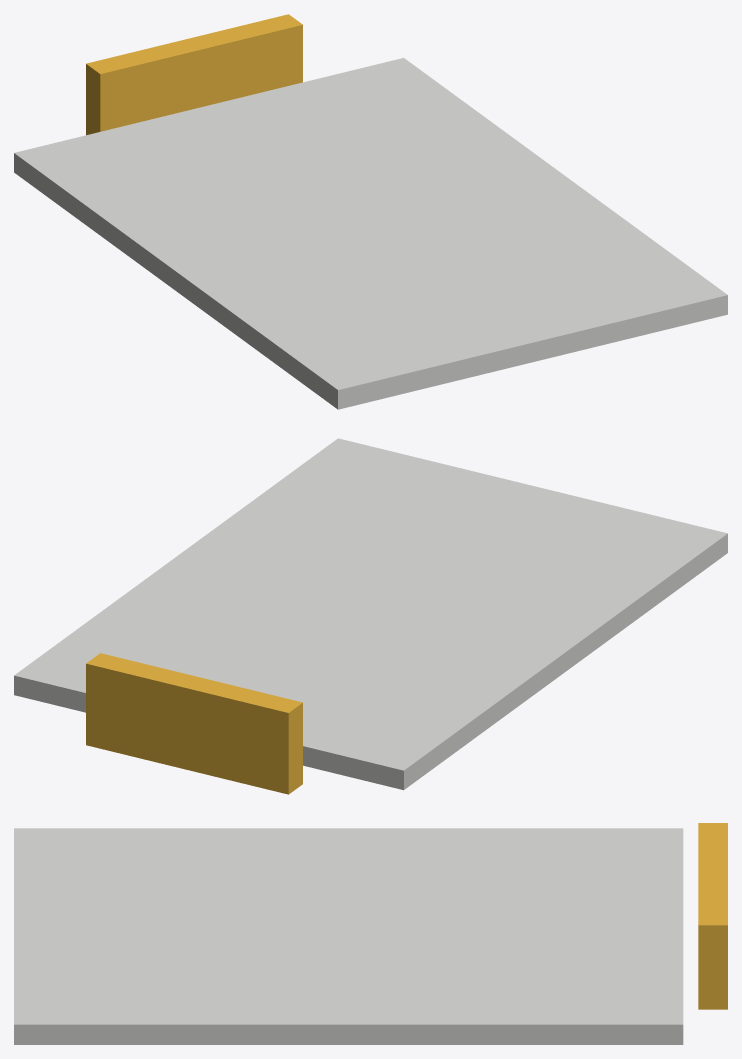
The model's file is pat-on-back-award.glb.
3 renders of one model, top to bottom at view 1: azimuth 30°, elevation 25°; view 2: azimuth 150°, elevation 25°; view 3: azimuth 270°, elevation 25°, orthographic. The views are drawn at different scales.
Visible parts, largest first — view 1: Award_Certificate, Award_Stand; view 2: Award_Certificate, Award_Stand; view 3: Award_Certificate, Award_Stand.
Boxes of the visible parts, x1,y1,x2,y2 form: Award_Certificate: [14, 58, 727, 409]; Award_Stand: [86, 14, 302, 135]; Award_Certificate: [14, 438, 727, 790]; Award_Stand: [86, 653, 302, 794]; Award_Certificate: [14, 828, 683, 1044]; Award_Stand: [698, 823, 727, 1009].
Size of the model in its own units: 1.25 by 0.25 by 1.92.
